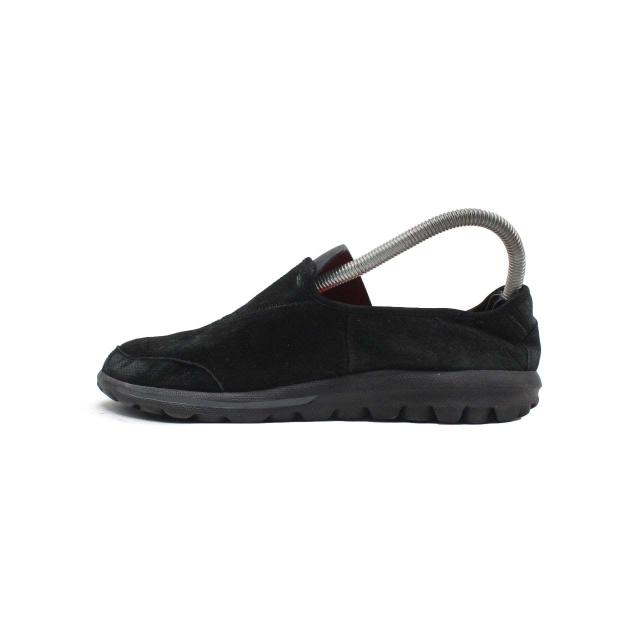heel: (469, 286, 539, 373)
midsole: (96, 369, 538, 424)
uppersole: (101, 258, 471, 391)
